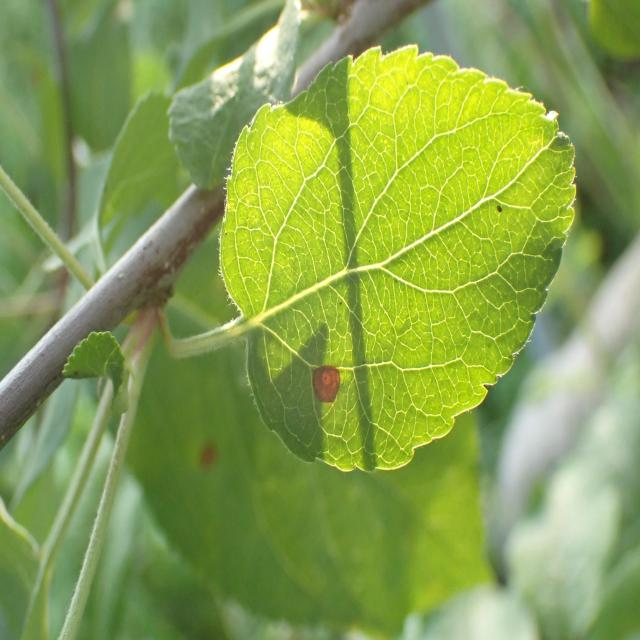Black Rot: (296, 355, 355, 423)
